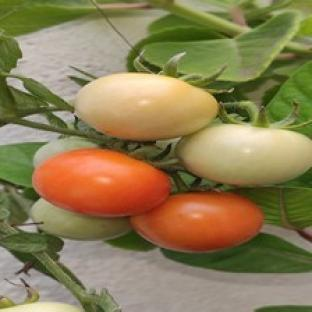Tomato: (74, 73, 218, 140), (34, 148, 171, 215), (176, 124, 311, 185), (131, 191, 263, 252), (30, 198, 130, 240), (34, 137, 98, 167), (2, 303, 82, 311)
